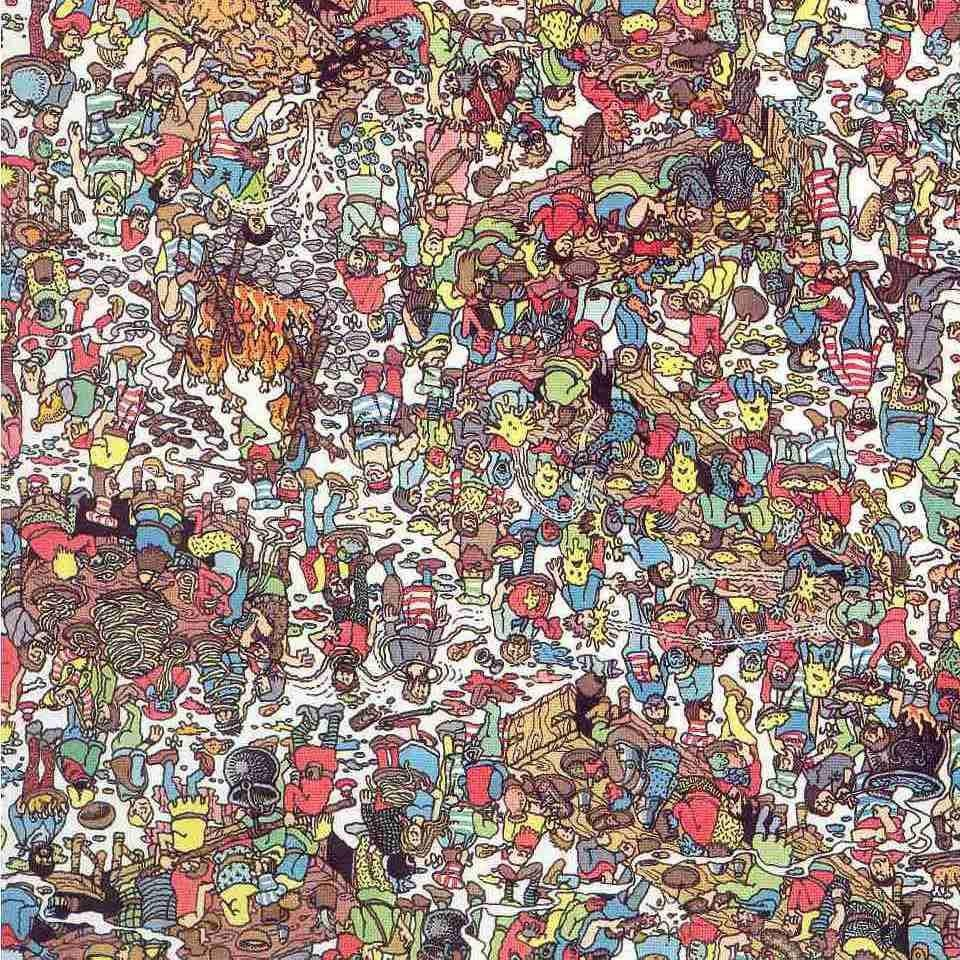waldo: (835, 276, 881, 442)
